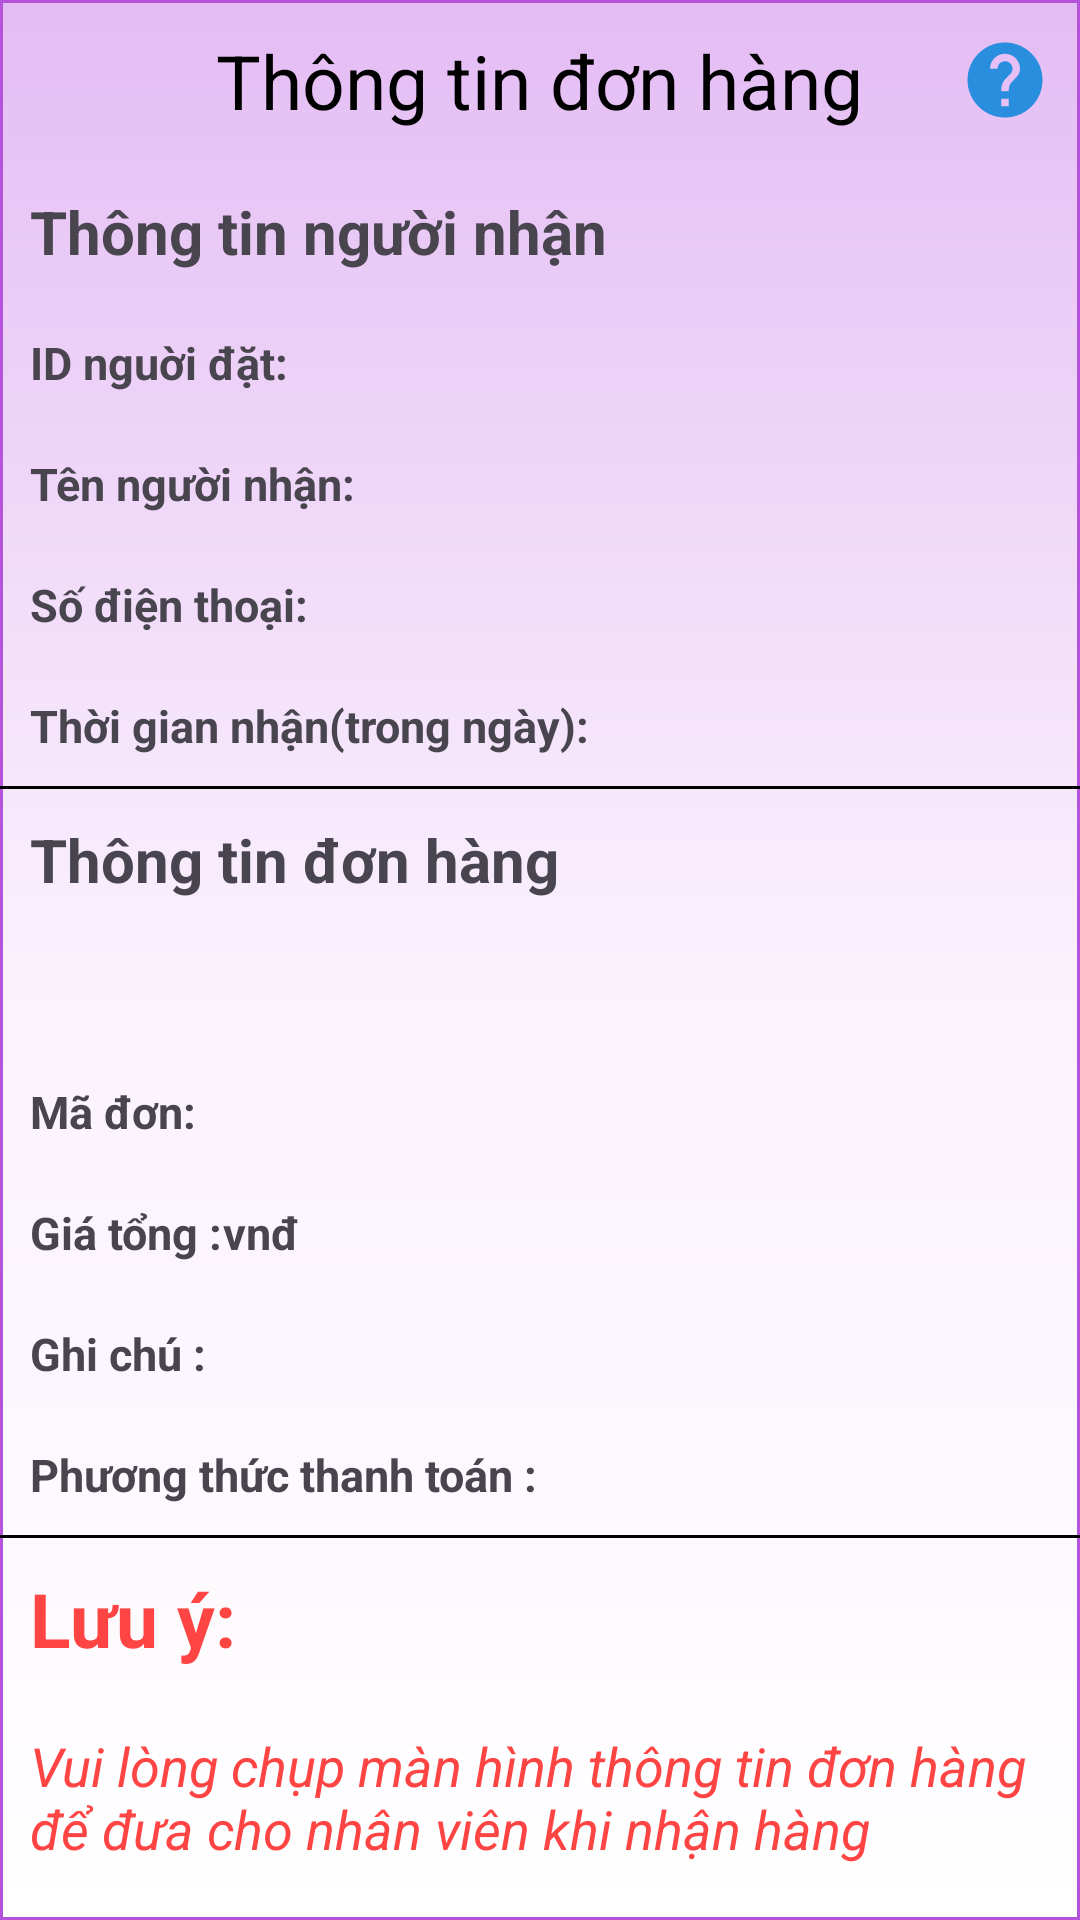

Point at icon controls on the screen. Image size 1080*1920, points as [x,y].
help: [1005,80]
